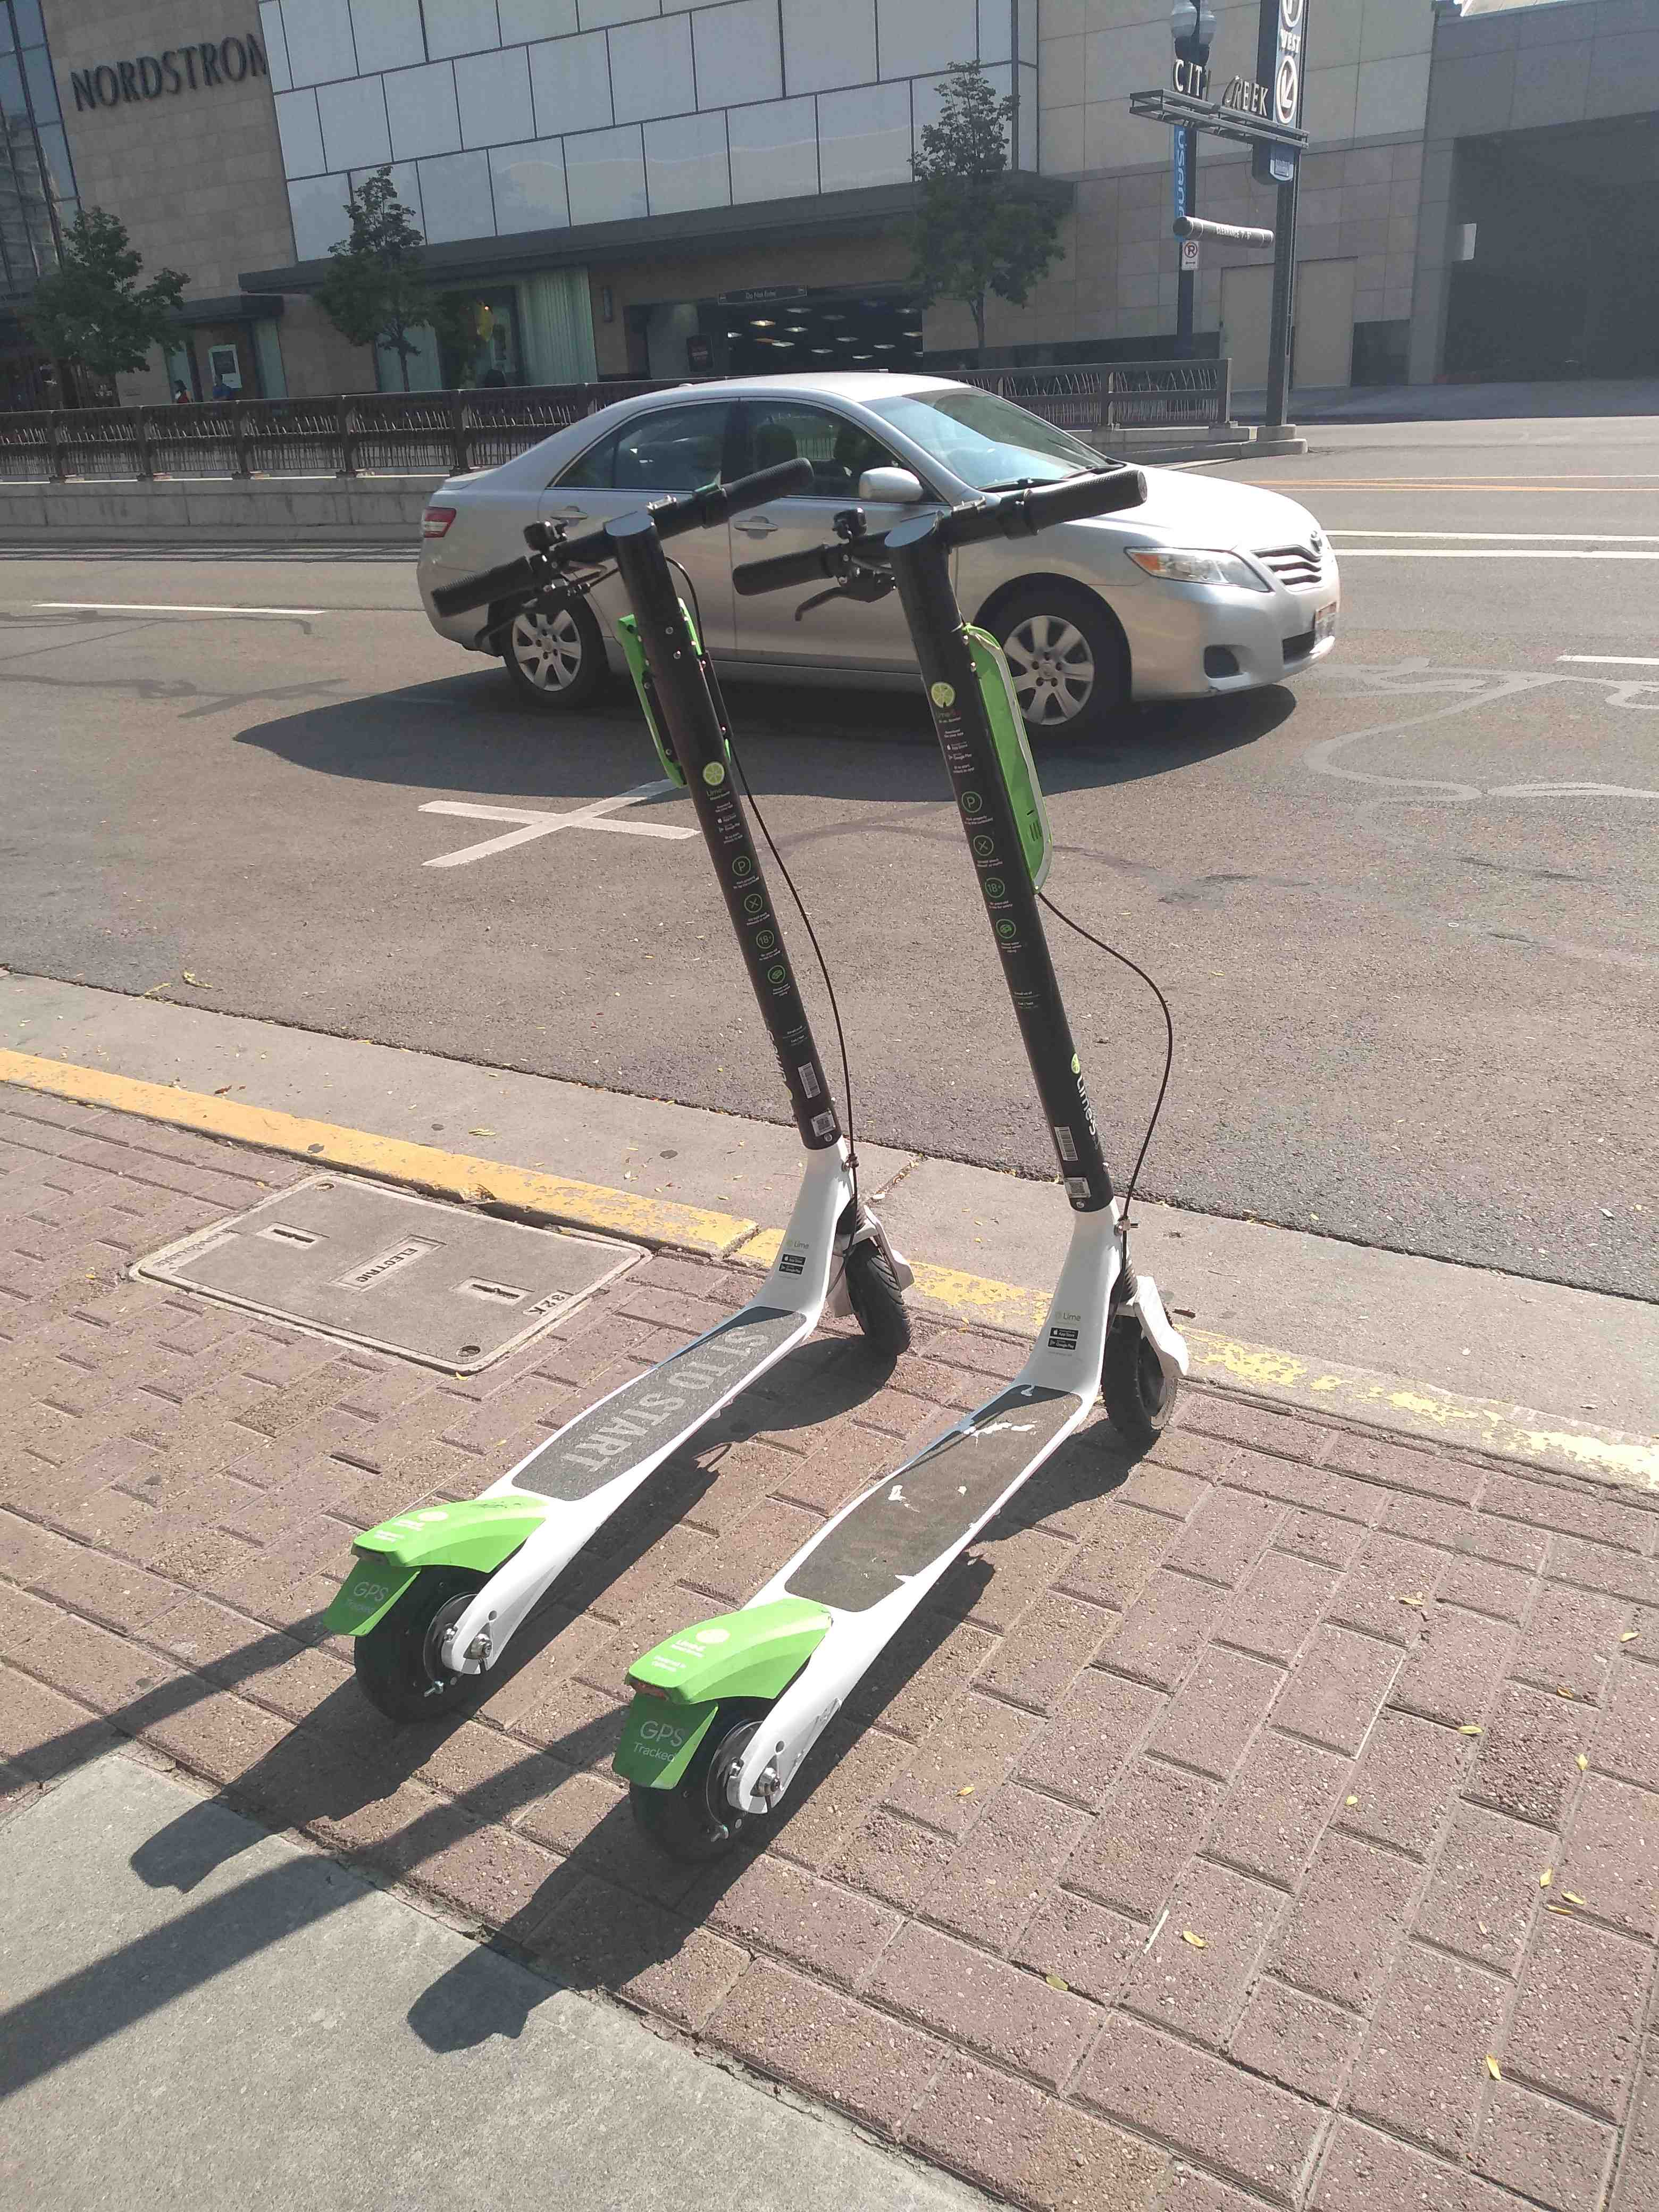scooter: (282, 397, 918, 1785), (594, 446, 1204, 1881)
